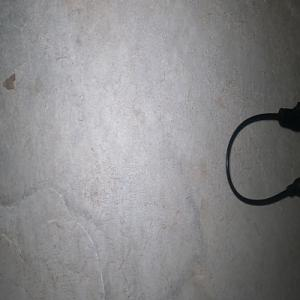Wire: (225, 101, 300, 205)
